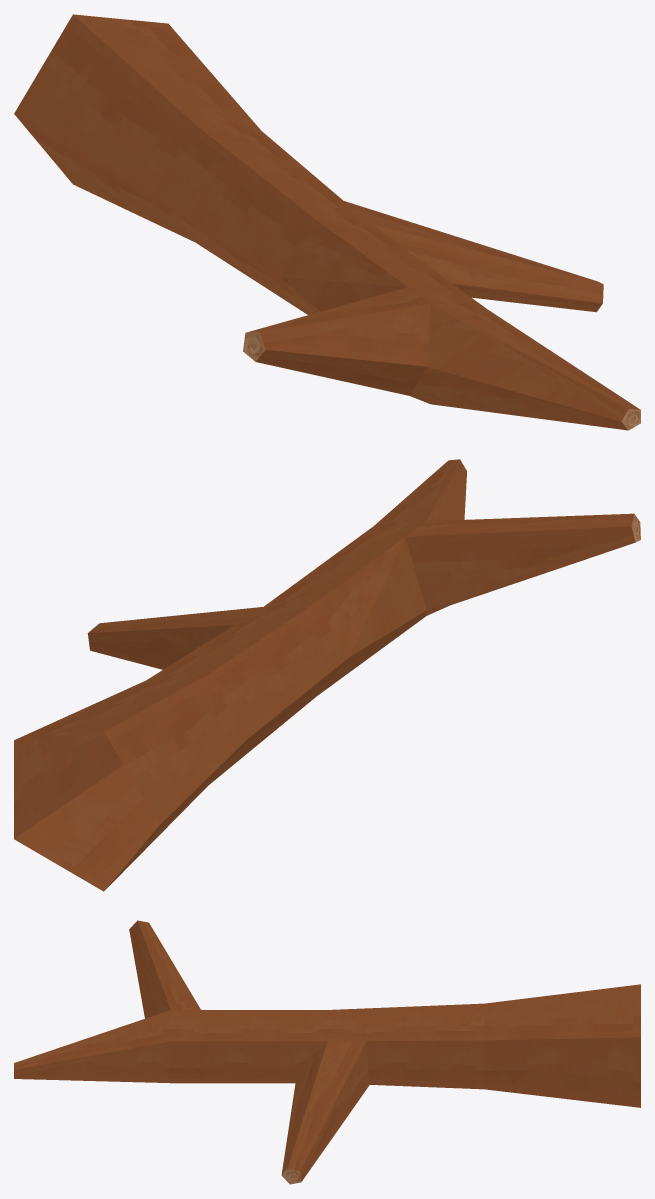
File: SM_AP_Tree_Trunk_3.glb
3 views of the same model, one above another, from view 1: azimuth 30°, elevation 25°; view 2: azimuth 150°, elevation 25°; view 3: azimuth 270°, elevation 25° (orthographic). The views are drawn at different scales.
Visible parts, largest first — view 1: SM_AP_Tree_Trunk_3; view 2: SM_AP_Tree_Trunk_3; view 3: SM_AP_Tree_Trunk_3.
Part boxes in pixels (x1=…): SM_AP_Tree_Trunk_3: x1=14, y1=14, x2=640, y2=430; SM_AP_Tree_Trunk_3: x1=14, y1=459, x2=640, y2=891; SM_AP_Tree_Trunk_3: x1=14, y1=920, x2=640, y2=1184.
Size of the model in its own units: 9.27 by 3.28 by 16.
1 material, 1 textured.
